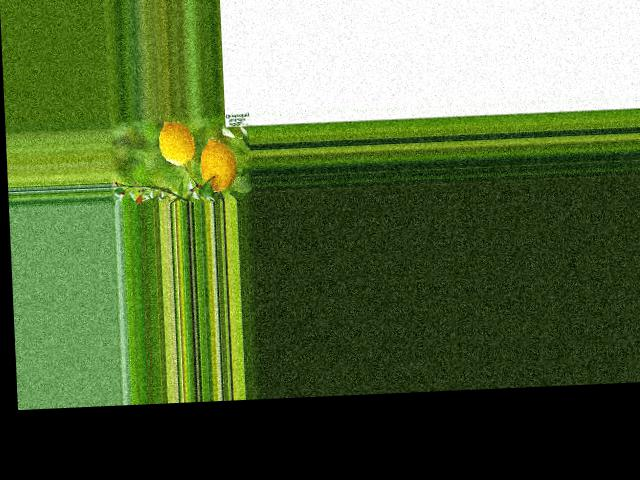lemon: (194, 136, 239, 195)
